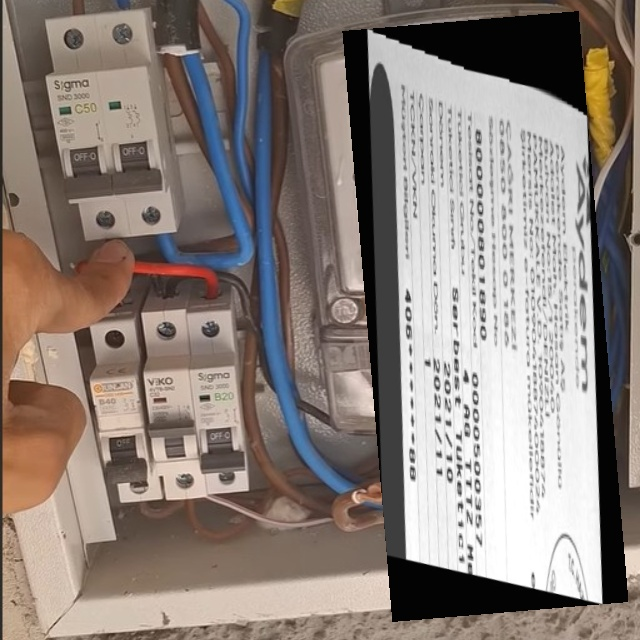electricity-bill: (341, 10, 627, 622)
